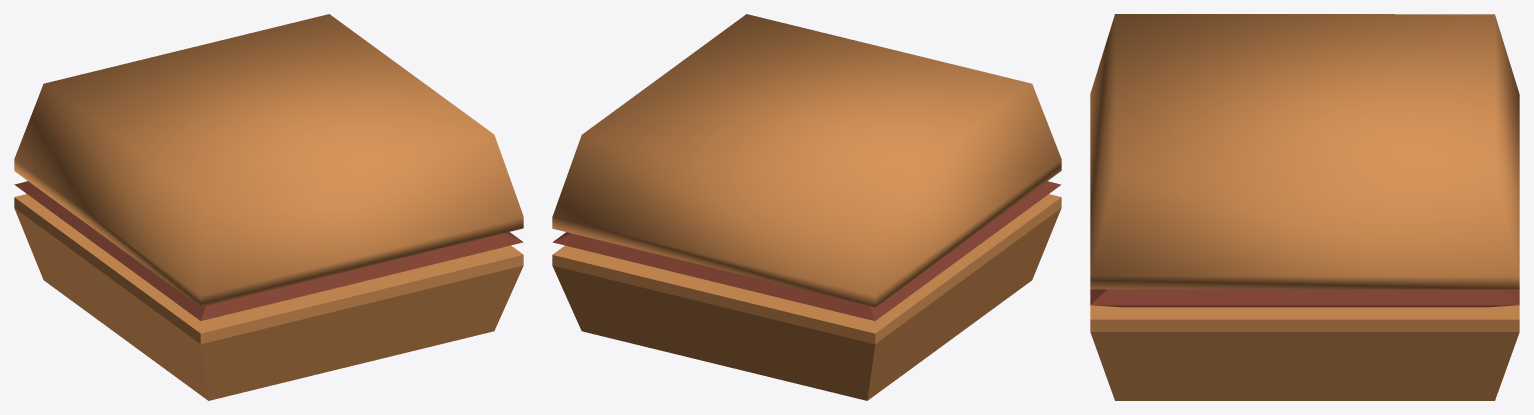
Rendered from hamburger.glb.
3 renders of one model, left to right at view 1: azimuth 30°, elevation 25°; view 2: azimuth 150°, elevation 25°; view 3: azimuth 270°, elevation 25°, orthographic. The views are drawn at different scales.
Visible parts, largest first — view 1: Cube.002, Cube, Cube.001; view 2: Cube.002, Cube, Cube.001; view 3: Cube.002, Cube, Cube.001.
Boxes of the visible parts, x1,y1,x2,y2 form: Cube.002: (14,14,523,306); Cube: (14,194,523,400); Cube.001: (14,181,523,320); Cube.002: (552,14,1061,307); Cube: (552,194,1061,400); Cube.001: (552,181,1060,320); Cube.002: (1090,14,1519,289); Cube: (1090,305,1519,400); Cube.001: (1090,289,1519,307).
Bounding box in the file's own units: 11.81 × 6.87 × 11.81.
